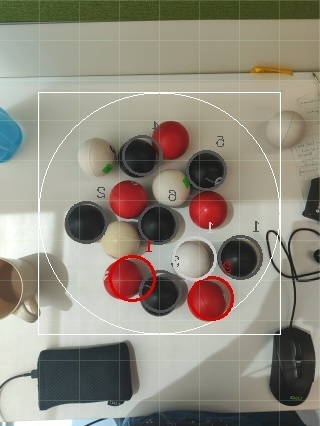Pelota blanca: (170, 236, 217, 280), (287, 225, 320, 283), (266, 108, 308, 150), (151, 169, 193, 208), (101, 220, 143, 259), (77, 137, 119, 176), (0, 257, 25, 320), (0, 105, 25, 163), (85, 417, 121, 425)
Pelota negra: (37, 339, 140, 413), (268, 326, 318, 408), (218, 233, 265, 280), (63, 198, 108, 246), (138, 204, 185, 246), (119, 134, 161, 179), (189, 148, 228, 190), (122, 409, 204, 425)
Pelota roja: (103, 252, 159, 302), (186, 276, 236, 323), (189, 190, 233, 230), (151, 118, 191, 160), (109, 180, 151, 219)
